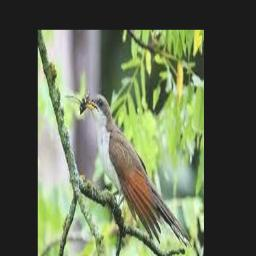Cuckoo: (86, 95, 191, 248)
